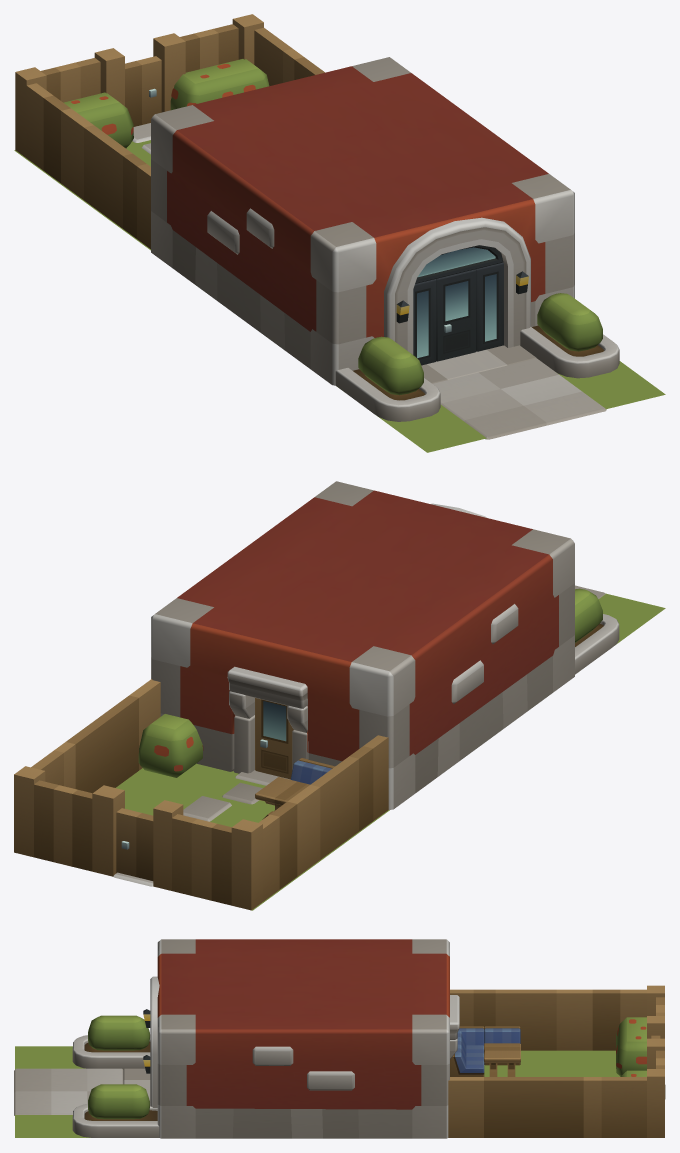
The model's file is appartment_type3_x3_ground_red.fbx.
The picture shows the model from 3 angles, top to bottom: view 1: azimuth 30°, elevation 25°; view 2: azimuth 150°, elevation 25°; view 3: azimuth 270°, elevation 25°; orthographic projection. The views are drawn at different scales.
Parts seen in each view (by area): view 1: appartment_type3_x3_ground_red, door_front_appartment_type3, door_garden_appartment_type3; view 2: appartment_type3_x3_ground_red, door_back_appartment_type3, door_garden_appartment_type3; view 3: appartment_type3_x3_ground_red.
Part boxes in pixels (x1,y1,x2,y2): appartment_type3_x3_ground_red: (14, 14, 665, 452); door_front_appartment_type3: (436, 269, 476, 361); door_garden_appartment_type3: (125, 56, 161, 126); appartment_type3_x3_ground_red: (14, 481, 665, 910); door_back_appartment_type3: (255, 698, 293, 779); door_garden_appartment_type3: (116, 808, 153, 880); appartment_type3_x3_ground_red: (14, 939, 665, 1138).
Size of the model in its own units: 628 by 335 by 1806.
